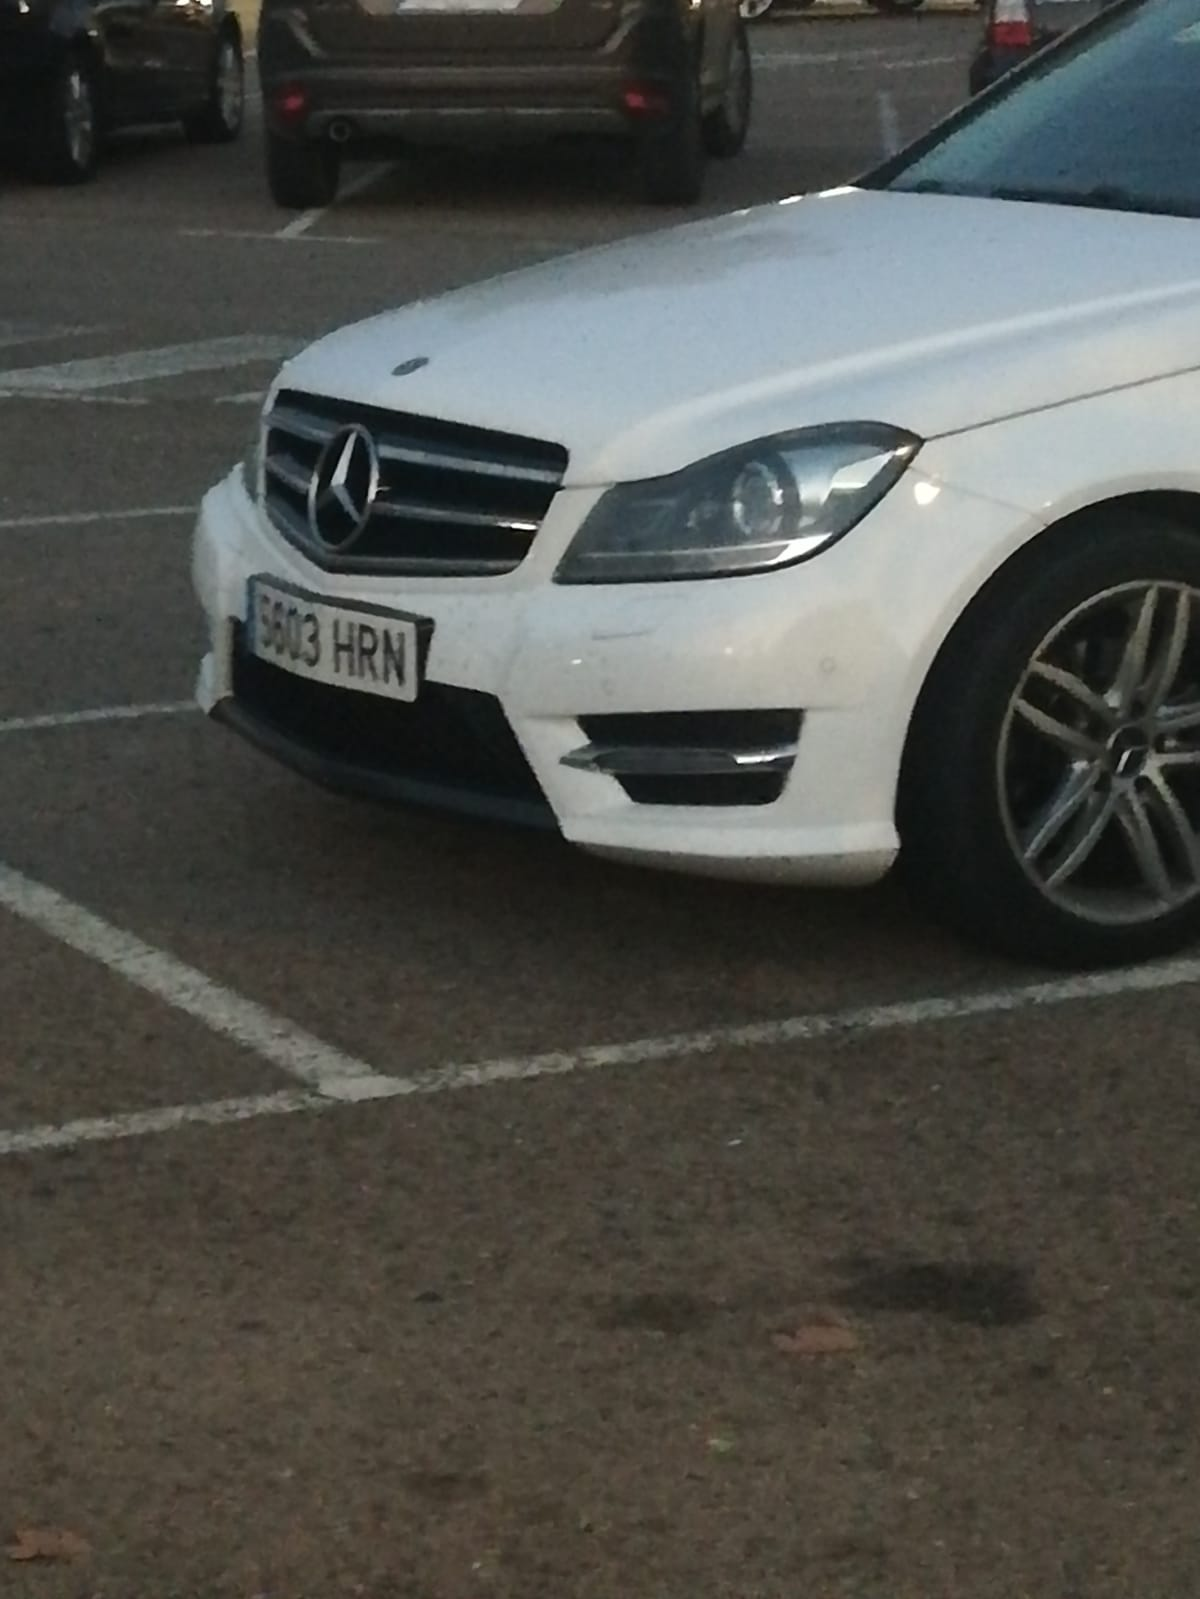Car: (193, 0, 1199, 962)
Plate: (261, 572, 437, 660)
